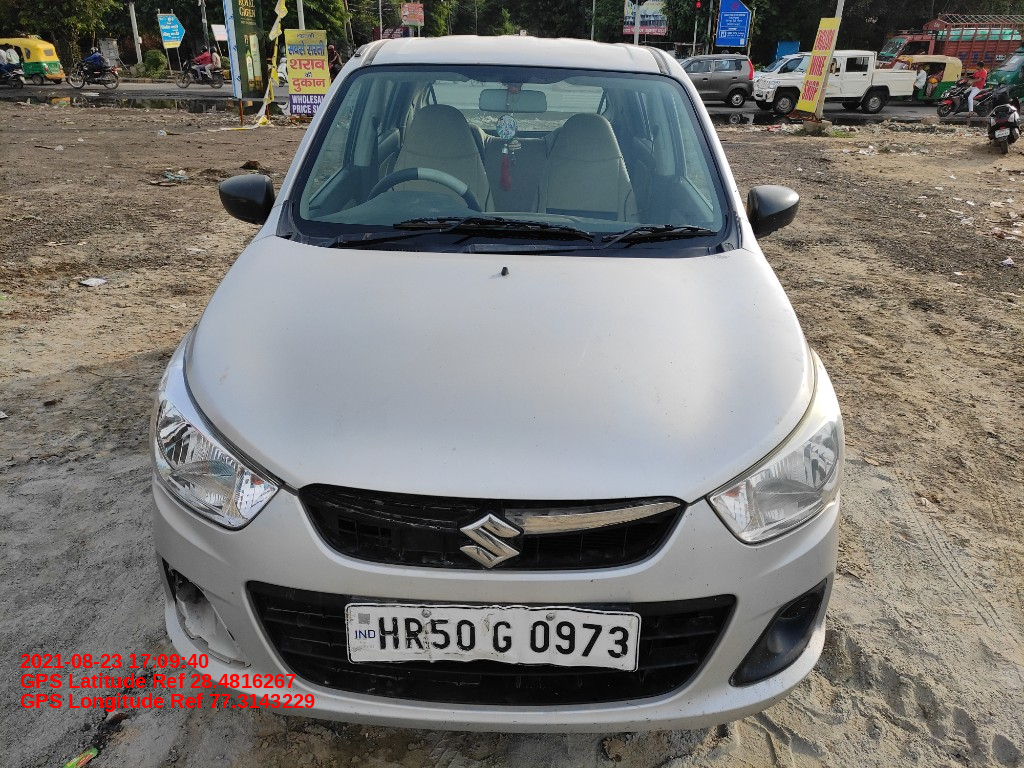Broken: (297, 481, 686, 537), (157, 546, 253, 675)
